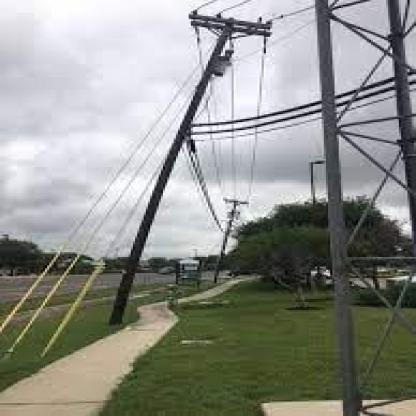Electrical Pole: (83, 4, 284, 332)
